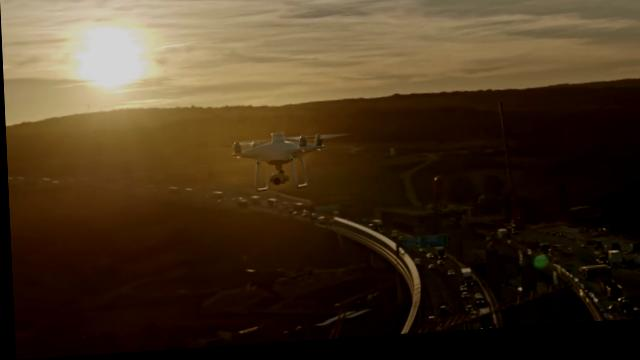drone: (224, 131, 350, 198)
